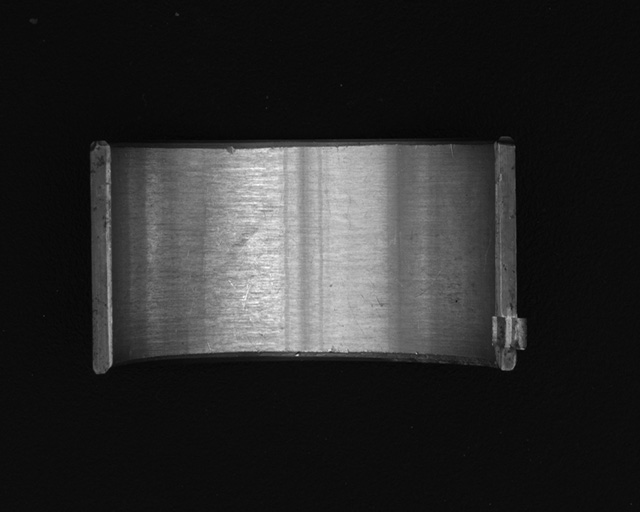bruise: (224, 146, 237, 156)
